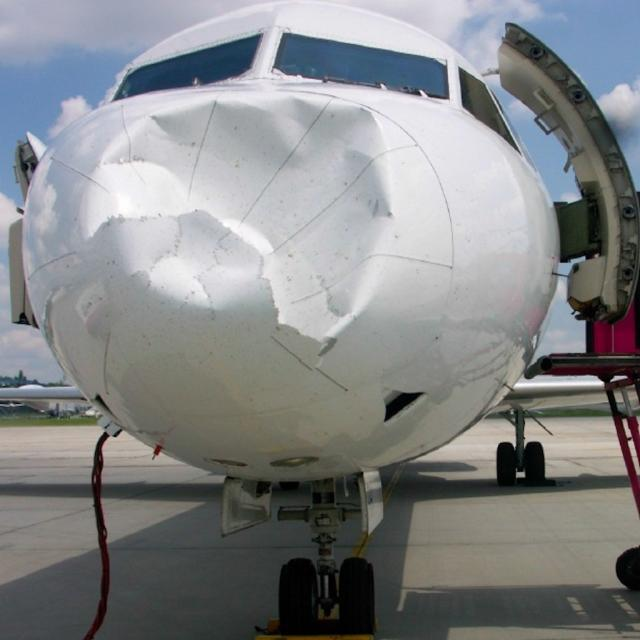dent: (78, 88, 401, 349)
